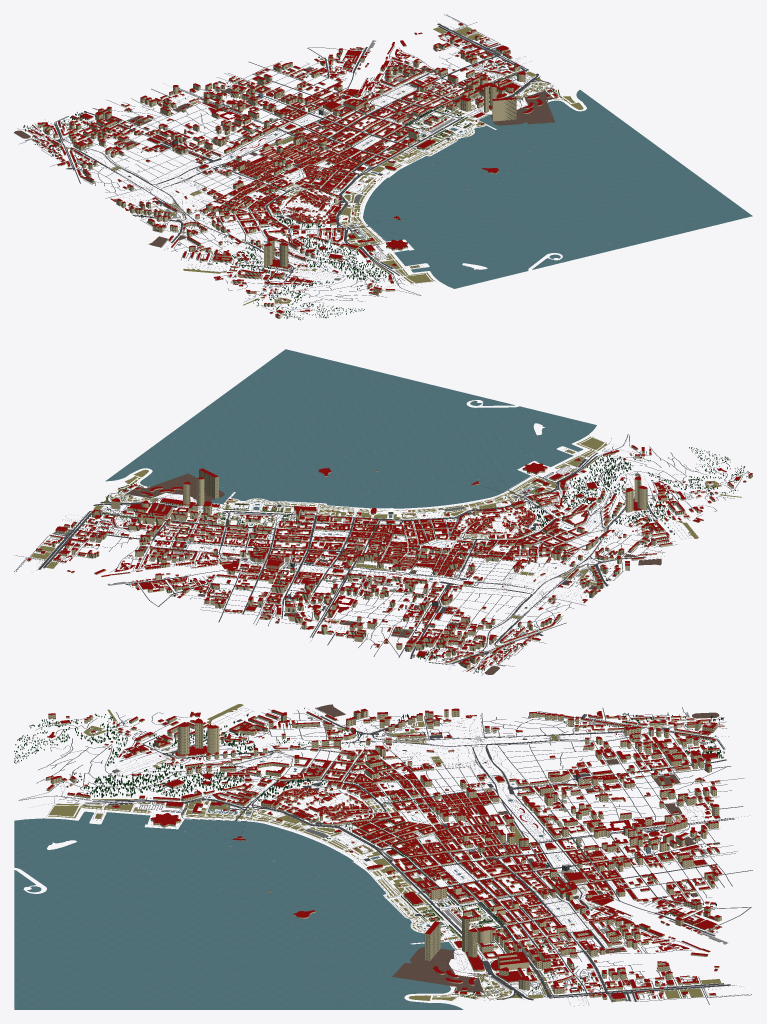
Rendered from azerbaijan.glb.
3 views of the same model, one above another, from view 1: azimuth 30°, elevation 25°; view 2: azimuth 150°, elevation 25°; view 3: azimuth 270°, elevation 25° (orthographic). The views are drawn at different scales.
Visible parts, largest first — view 1: cell_1_1, cell_0_0, cell_-1_0, cell_-1_-1, cell_0_-1, cell_1_-1, cell_0_-2, cell_-1_-2, cell_-2_-2, cell_-2_0, cell_-1_1, cell_1_-2 (+6 smaller); view 2: cell_1_1, cell_0_0, cell_-1_0, cell_-1_-1, cell_0_-1, cell_1_-1, cell_0_-2, cell_-2_0, cell_-2_-2, cell_-1_-2, cell_1_-2, cell_-1_1 (+6 smaller); view 3: cell_1_1, cell_0_0, cell_-1_0, cell_-1_-1, cell_0_-1, cell_1_-1, cell_-2_0, cell_-1_-2, cell_0_-2, cell_-2_-2, cell_-1_1, cell_1_-2 (+7 smaller).
Part boxes in pixels (x1,y1,x2,y2): cell_1_1: (464, 122, 752, 262); cell_0_0: (370, 122, 554, 262); cell_-1_0: (255, 155, 433, 263); cell_-1_-1: (187, 122, 370, 197); cell_0_-1: (303, 91, 472, 170); cell_1_-1: (420, 63, 583, 134); cell_0_-2: (243, 47, 418, 121); cell_-1_-2: (121, 73, 304, 147); cell_-2_-2: (14, 101, 186, 177); cell_-2_0: (148, 198, 319, 273); cell_-1_1: (320, 224, 546, 297); cell_1_-2: (361, 17, 526, 91); cell_1_1: (189, 349, 536, 473); cell_0_0: (189, 448, 555, 518); cell_-1_0: (324, 449, 582, 547); cell_-1_-1: (317, 519, 509, 600); cell_0_-1: (196, 498, 391, 570); cell_1_-1: (89, 468, 256, 541); cell_0_-2: (132, 537, 321, 616); cell_-2_0: (514, 488, 694, 575); cell_-2_-2: (375, 594, 554, 675); cell_-1_-2: (253, 573, 439, 648); cell_1_-2: (14, 511, 194, 586); cell_-1_1: (475, 408, 650, 497); cell_1_1: (14, 842, 391, 1009); cell_0_0: (100, 824, 412, 976); cell_-1_0: (100, 778, 388, 896); cell_-1_-1: (380, 775, 563, 859); cell_0_-1: (381, 854, 563, 933); cell_1_-1: (392, 916, 566, 1006); cell_-2_0: (203, 705, 390, 783); cell_-1_-2: (557, 776, 741, 863); cell_0_-2: (553, 851, 743, 933); cell_-2_-2: (552, 707, 735, 786); cell_-1_1: (24, 777, 243, 887); cell_1_-2: (551, 925, 737, 1006).
Bounding box in the file's own units: 4092 × 210 × 4181.
26 materials, 26 textured.
